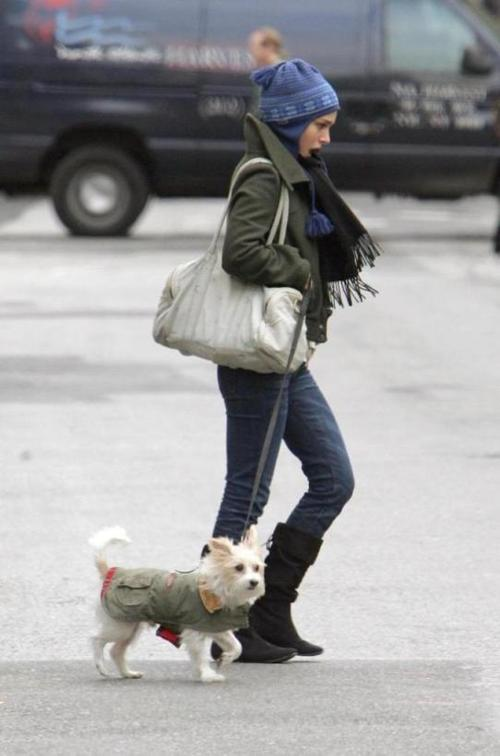person: (196, 57, 356, 669)
